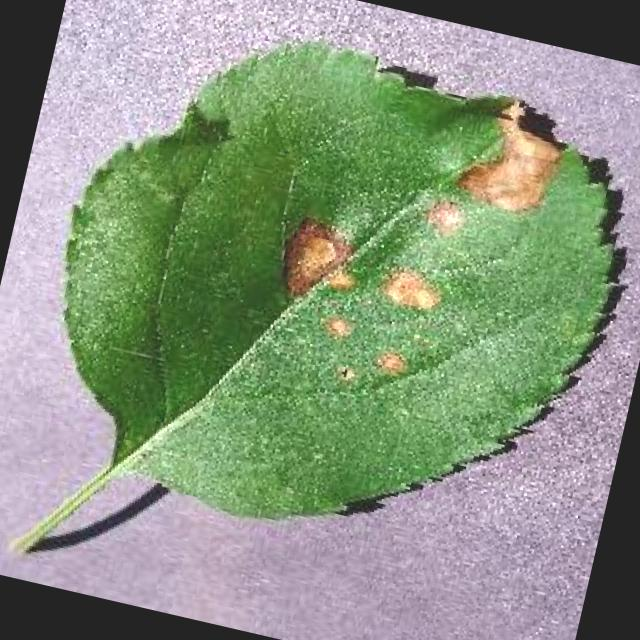leaf_spot: (21, 42, 609, 547)
